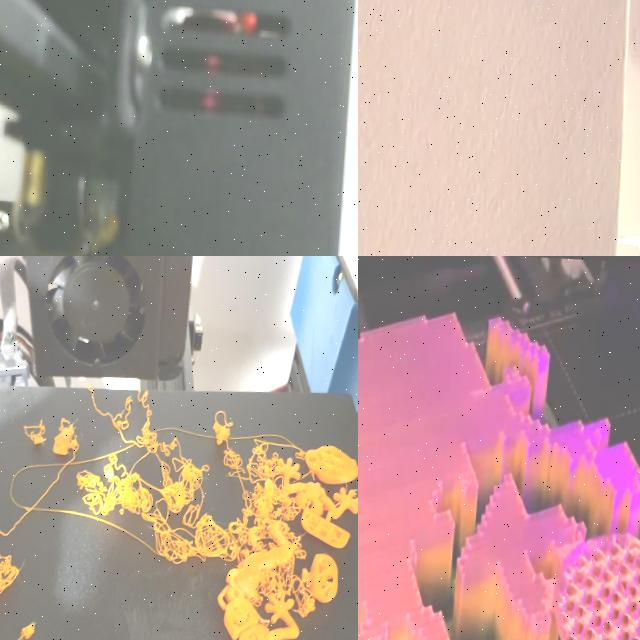spaghetti: (76, 388, 330, 618), (0, 555, 32, 601), (17, 411, 53, 450), (56, 412, 82, 461), (13, 621, 40, 640)
